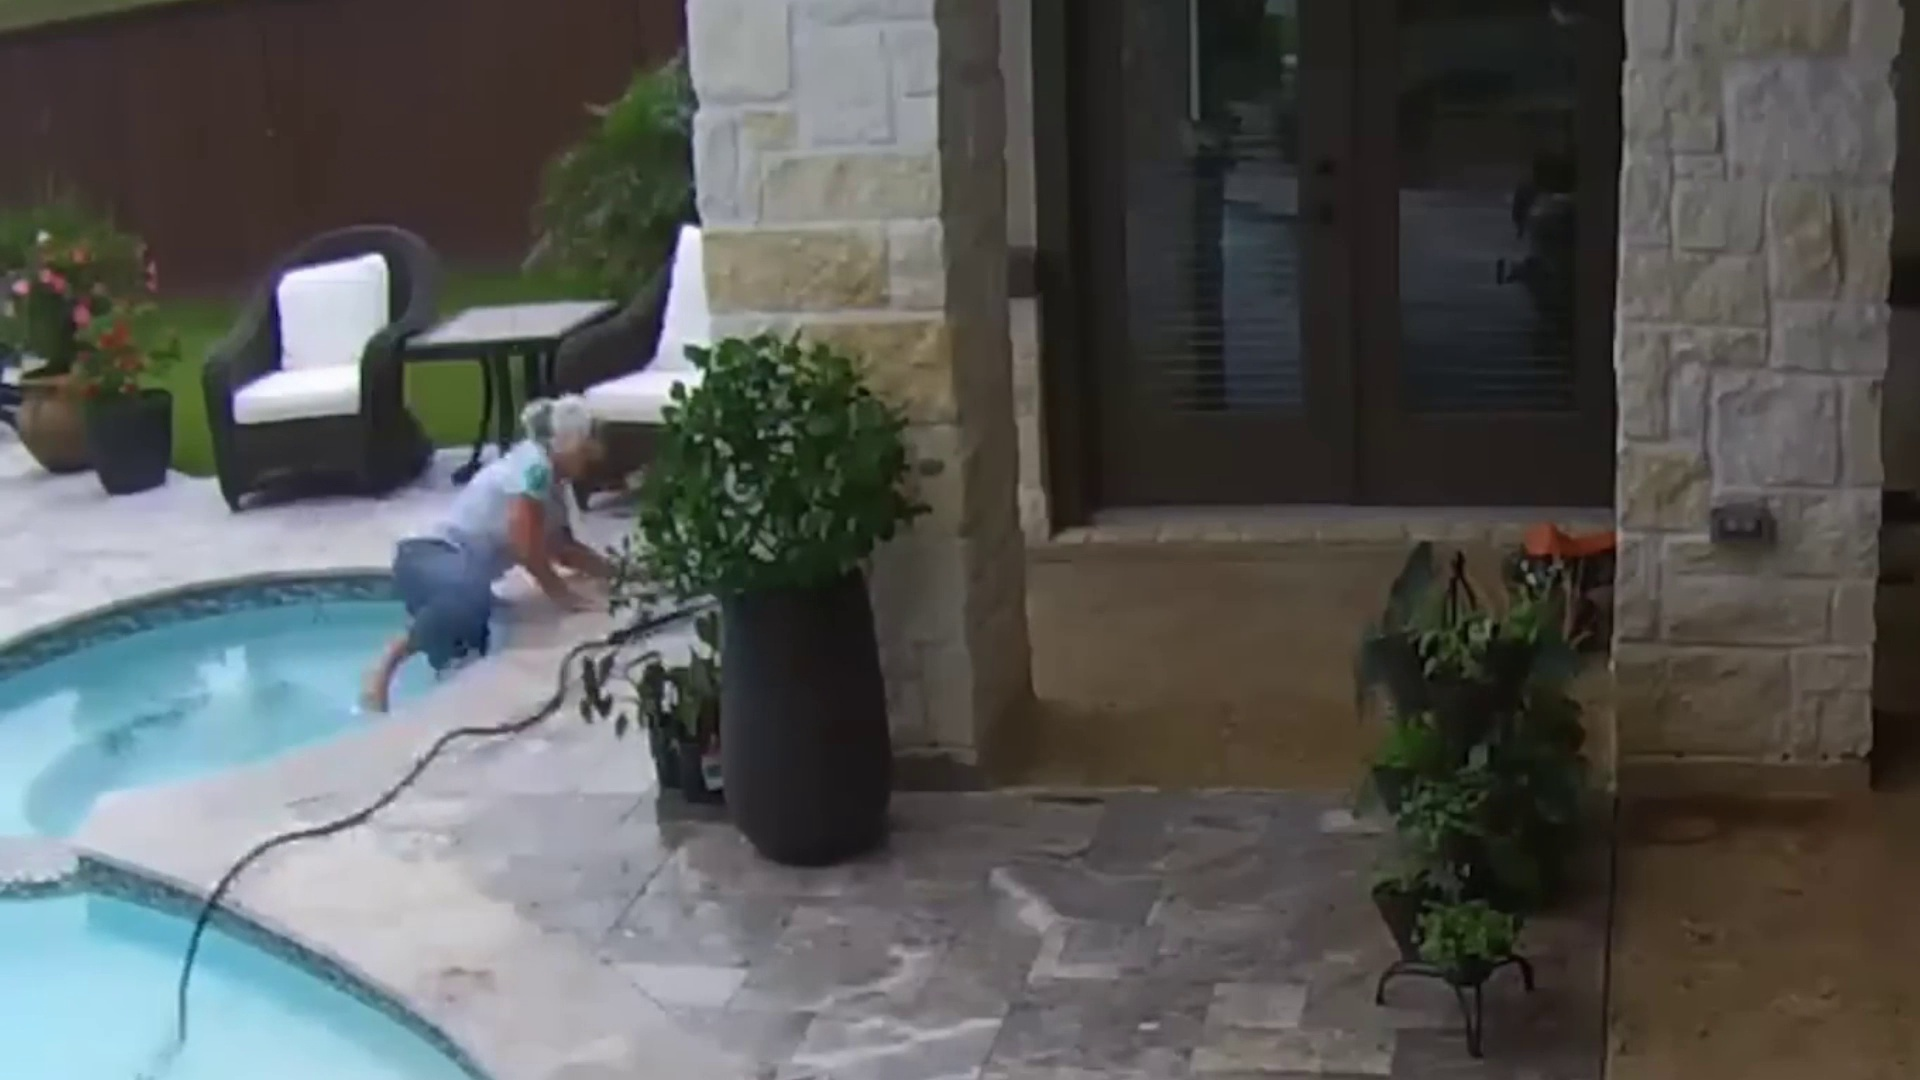fall: (344, 375, 650, 814)
